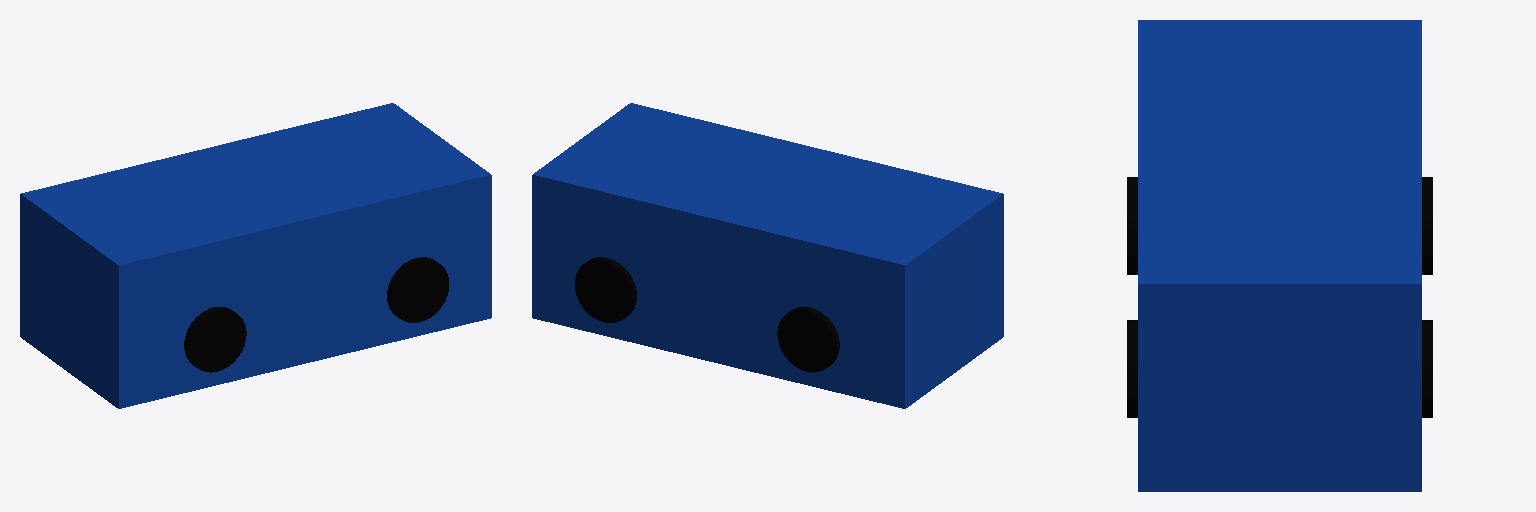
URDF robot description (ifs_08):
<?xml version="1.0"?>
<!--
  IFS-08 placeholder URDF.

  Frame conventions:
    base_link   — origin at rear-axle midpoint, ground level, ROS REP-103
                  axes (x forward, y left, z up). Canonical vehicle frame
                  used everywhere downstream.
    chassis     — visual-only box; no collision, no inertial.
    *_wheel     — cylinder primitives, radius 0.225 m, width 0.20 m.

  Approximate IFS-08 dimensions (NOT canonical — re-authoring from real
  SolidWorks is tracked as #142):
    wheelbase     1.55 m
    track         1.20 m  (centre-to-centre)
    wheel radius  0.225 m
    wheel width   0.20  m
    chassis box   2.85 m × 1.30 m × 1.05 m

  Steering: each front wheel has its own steer joint (revolute, ±0.5 rad)
  parent → wheel rotation joint (continuous) child. Rear wheels are bare
  continuous rotation joints.

  Inertials are deliberately omitted — this URDF is for TF publishing
  and visualisation only. Chaos physics in UE5 owns the dynamics. If you
  add inertials later for downstream tooling that needs them, mirror
  the values used in FormulaMesh_PhysicsAsset rather than guessing.
-->
<robot name="ifs_08">

  <!-- Materials -->
  <material name="chassis_blue">
    <color rgba="0.10 0.30 0.65 1.0"/>
  </material>
  <material name="wheel_black">
    <color rgba="0.05 0.05 0.05 1.0"/>
  </material>
  <material name="hub_grey">
    <color rgba="0.55 0.55 0.55 1.0"/>
  </material>

  <!-- ================================================================
       base_link: empty root, rear-axle midpoint, z=0
       ================================================================ -->
  <link name="base_link"/>

  <!-- ================================================================
       Chassis: visual box only
       ================================================================ -->
  <link name="chassis_link">
    <visual>
      <origin xyz="0.7 0.0 0.40" rpy="0 0 0"/>
      <geometry>
        <box size="2.85 1.30 1.05"/>
      </geometry>
      <material name="chassis_blue"/>
    </visual>
  </link>

  <joint name="chassis_joint" type="fixed">
    <parent link="base_link"/>
    <child  link="chassis_link"/>
    <origin xyz="0 0 0" rpy="0 0 0"/>
  </joint>

  <!-- ================================================================
       Rear wheels — bare continuous rotation about y
       ================================================================ -->
  <link name="rear_left_wheel_link">
    <visual>
      <origin xyz="0 0 0" rpy="1.5708 0 0"/>
      <geometry>
        <cylinder radius="0.225" length="0.20"/>
      </geometry>
      <material name="wheel_black"/>
    </visual>
  </link>
  <joint name="rear_left_wheel_joint" type="continuous">
    <parent link="base_link"/>
    <child  link="rear_left_wheel_link"/>
    <origin xyz="0.0 0.60 0.225" rpy="0 0 0"/>
    <axis   xyz="0 1 0"/>
  </joint>

  <link name="rear_right_wheel_link">
    <visual>
      <origin xyz="0 0 0" rpy="1.5708 0 0"/>
      <geometry>
        <cylinder radius="0.225" length="0.20"/>
      </geometry>
      <material name="wheel_black"/>
    </visual>
  </link>
  <joint name="rear_right_wheel_joint" type="continuous">
    <parent link="base_link"/>
    <child  link="rear_right_wheel_link"/>
    <origin xyz="0.0 -0.60 0.225" rpy="0 0 0"/>
    <axis   xyz="0 1 0"/>
  </joint>

  <!-- ================================================================
       Front-left: steer link → wheel link
       ================================================================ -->
  <link name="front_left_steer_link">
    <visual>
      <origin xyz="0 0 0" rpy="0 0 0"/>
      <geometry>
        <cylinder radius="0.05" length="0.10"/>
      </geometry>
      <material name="hub_grey"/>
    </visual>
  </link>
  <joint name="front_left_steer_joint" type="revolute">
    <parent link="base_link"/>
    <child  link="front_left_steer_link"/>
    <origin xyz="1.55 0.60 0.225" rpy="0 0 0"/>
    <axis   xyz="0 0 1"/>
    <limit  lower="-0.5" upper="0.5" effort="100" velocity="2"/>
  </joint>

  <link name="front_left_wheel_link">
    <visual>
      <origin xyz="0 0 0" rpy="1.5708 0 0"/>
      <geometry>
        <cylinder radius="0.225" length="0.20"/>
      </geometry>
      <material name="wheel_black"/>
    </visual>
  </link>
  <joint name="front_left_wheel_joint" type="continuous">
    <parent link="front_left_steer_link"/>
    <child  link="front_left_wheel_link"/>
    <origin xyz="0 0 0" rpy="0 0 0"/>
    <axis   xyz="0 1 0"/>
  </joint>

  <!-- ================================================================
       Front-right: steer link → wheel link
       ================================================================ -->
  <link name="front_right_steer_link">
    <visual>
      <origin xyz="0 0 0" rpy="0 0 0"/>
      <geometry>
        <cylinder radius="0.05" length="0.10"/>
      </geometry>
      <material name="hub_grey"/>
    </visual>
  </link>
  <joint name="front_right_steer_joint" type="revolute">
    <parent link="base_link"/>
    <child  link="front_right_steer_link"/>
    <origin xyz="1.55 -0.60 0.225" rpy="0 0 0"/>
    <axis   xyz="0 0 1"/>
    <limit  lower="-0.5" upper="0.5" effort="100" velocity="2"/>
  </joint>

  <link name="front_right_wheel_link">
    <visual>
      <origin xyz="0 0 0" rpy="1.5708 0 0"/>
      <geometry>
        <cylinder radius="0.225" length="0.20"/>
      </geometry>
      <material name="wheel_black"/>
    </visual>
  </link>
  <joint name="front_right_wheel_joint" type="continuous">
    <parent link="front_right_steer_link"/>
    <child  link="front_right_wheel_link"/>
    <origin xyz="0 0 0" rpy="0 0 0"/>
    <axis   xyz="0 1 0"/>
  </joint>

</robot>

--- Facts derived from the render (not from the file) ---
Views: 3 orthographic renders of the robot side by side, from view 1: azimuth 30°, elevation 25°; view 2: azimuth 150°, elevation 25°; view 3: azimuth 270°, elevation 25°.
Model ifs_08 with 8 links and 7 joints (2 revolute, 4 continuous, 1 fixed), rooted at base_link, posed all joints at 0.
Visible links, largest first — view 1: chassis_link, front_right_wheel_link, rear_right_wheel_link; view 2: chassis_link, front_left_wheel_link, rear_left_wheel_link; view 3: chassis_link, rear_left_wheel_link, rear_right_wheel_link, front_left_wheel_link, front_right_wheel_link.
Boxes of the visible links, box(x1,y1,x2,y2) form: chassis_link: box(20, 103, 491, 408); front_right_wheel_link: box(387, 257, 448, 322); rear_right_wheel_link: box(184, 307, 246, 372); chassis_link: box(532, 103, 1003, 408); front_left_wheel_link: box(575, 257, 636, 322); rear_left_wheel_link: box(777, 307, 839, 372); chassis_link: box(1138, 20, 1421, 491); rear_left_wheel_link: box(1422, 177, 1432, 274); rear_right_wheel_link: box(1127, 177, 1137, 274); front_left_wheel_link: box(1422, 320, 1432, 417); front_right_wheel_link: box(1127, 320, 1137, 417).
Size in the robot's own frame: 2.85 by 1.4 by 1.05 metres.
Geometry: primitives only (box / cylinder / sphere), no mesh files.
